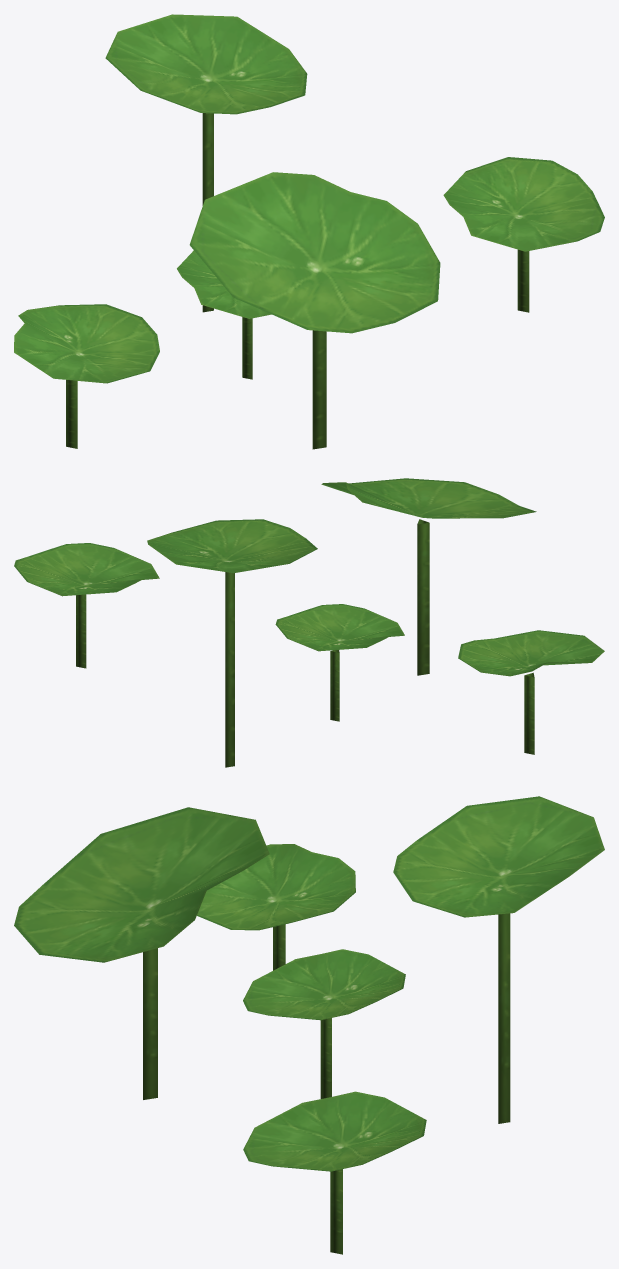
The model's file is fb_plxd_zj_14_c.FBX.
3 renders of one model, top to bottom at view 1: azimuth 30°, elevation 25°; view 2: azimuth 150°, elevation 25°; view 3: azimuth 270°, elevation 25°, orthographic. The views are drawn at different scales.
Parts seen in each view (by area): view 1: fb_plxd_zj_14_b; view 2: fb_plxd_zj_14_b; view 3: fb_plxd_zj_14_b.
Boxes of the visible parts, left/top/right/bottom form: fb_plxd_zj_14_b: left=14, top=14, right=604, bottom=449; fb_plxd_zj_14_b: left=14, top=478, right=604, bottom=767; fb_plxd_zj_14_b: left=14, top=796, right=604, bottom=1254.
Size of the model in its own units: 230 by 95.61 by 180.
